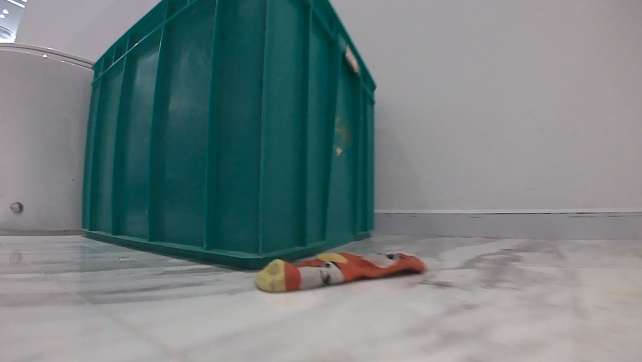socks: (253, 247, 427, 294)
toilet: (0, 39, 95, 236)
